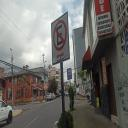NoEstacionar: (48, 4, 74, 72)
